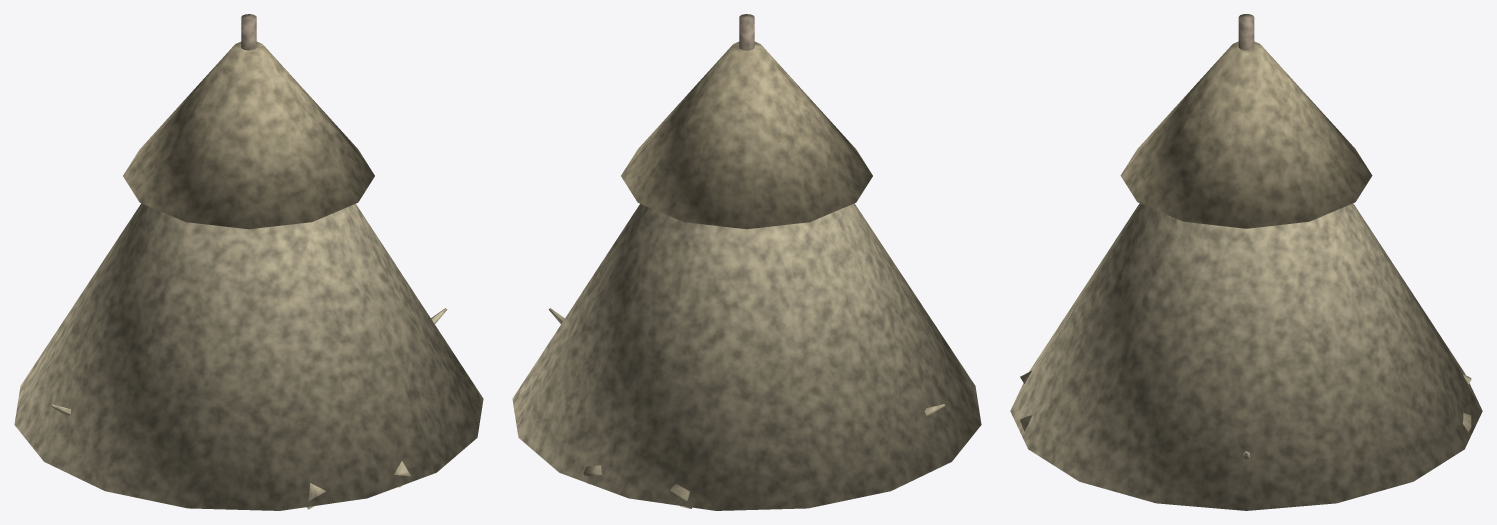
The model's file is prop_jerami.obj.
3 renders of one model, left to right at view 1: azimuth 30°, elevation 25°; view 2: azimuth 150°, elevation 25°; view 3: azimuth 270°, elevation 25°, orthographic.
Parts seen in each view (by area): view 1: prop_jerami; view 2: prop_jerami; view 3: prop_jerami.
Boxes of the visible parts, box(x1,y1,x2,y2) form: prop_jerami: box(14, 14, 483, 510); prop_jerami: box(512, 14, 981, 510); prop_jerami: box(1010, 14, 1482, 510).
Size of the model in its own units: 1.5 by 1.42 by 1.5.
Materials: 1 (1 with a texture image).
